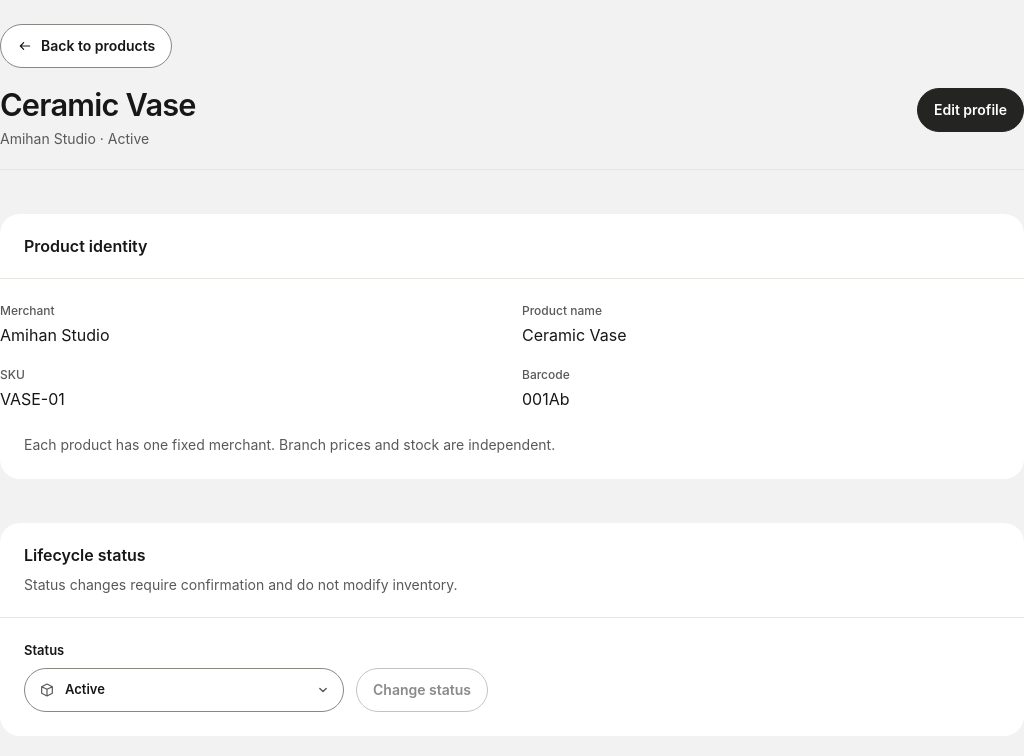
Test: ProductProfile workflows › edits identity in the modal without a merchant selector
Click the button "Edit profile" at (970, 110), box [917,88,1023,132]
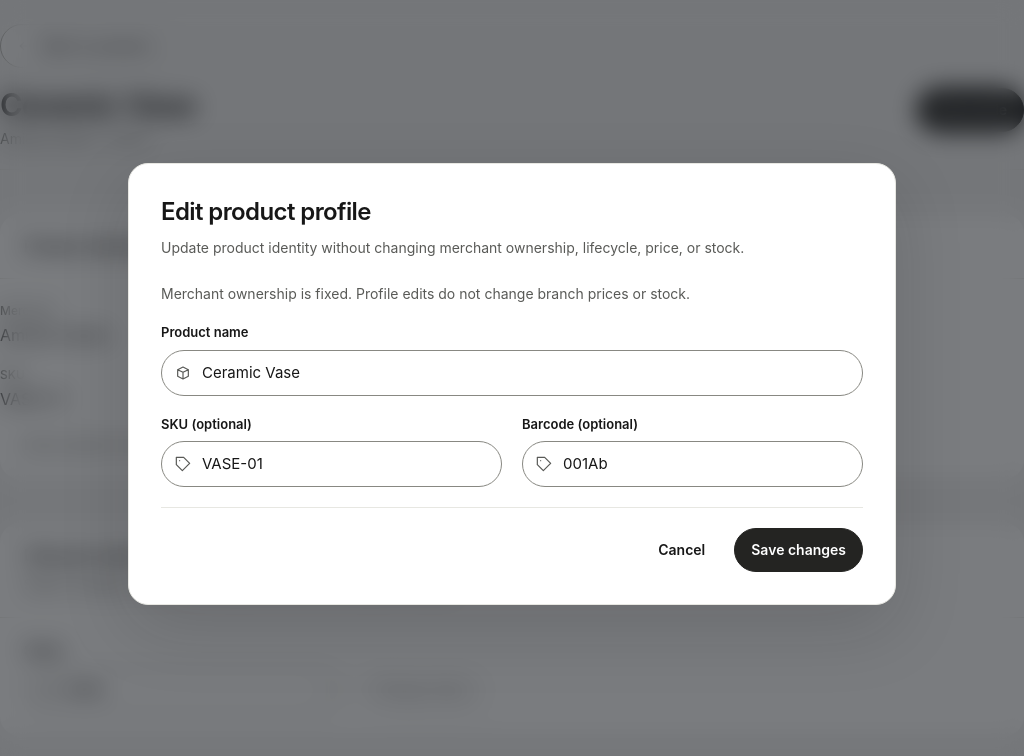
Result: the dialog "Edit product profile" is shown at [128,163,896,605]
Replace the text in the field labelled "Product name" with "Updated vase" at (512, 372), box [161,350,863,396]
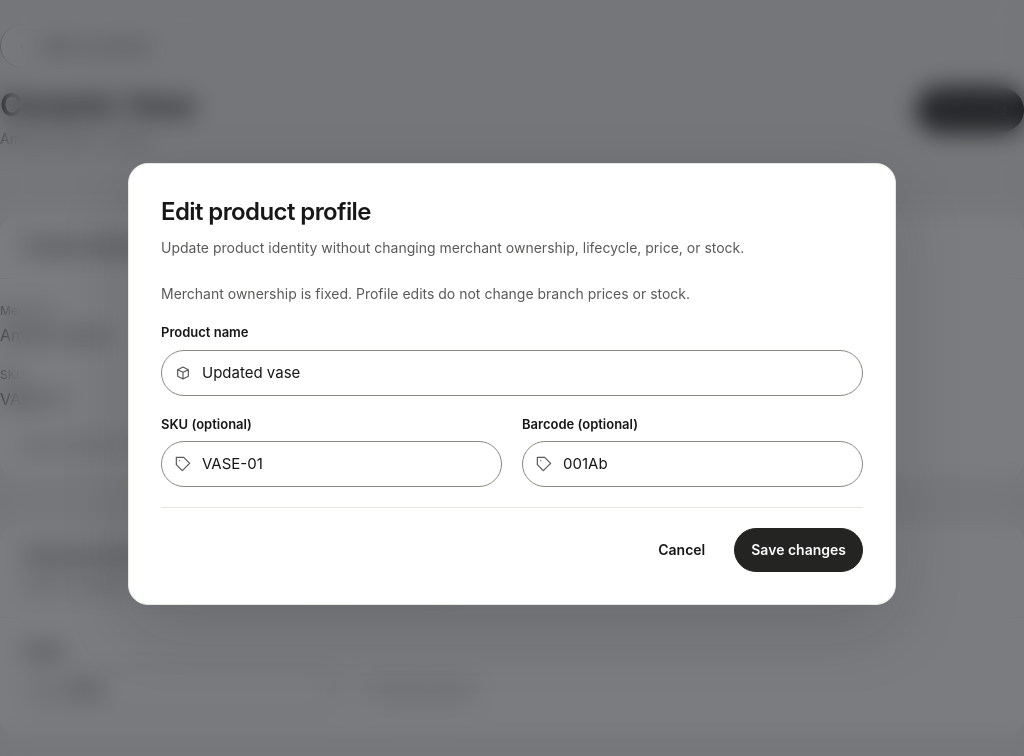
Click the button "Save changes" at (799, 550), box [734,528,863,572]
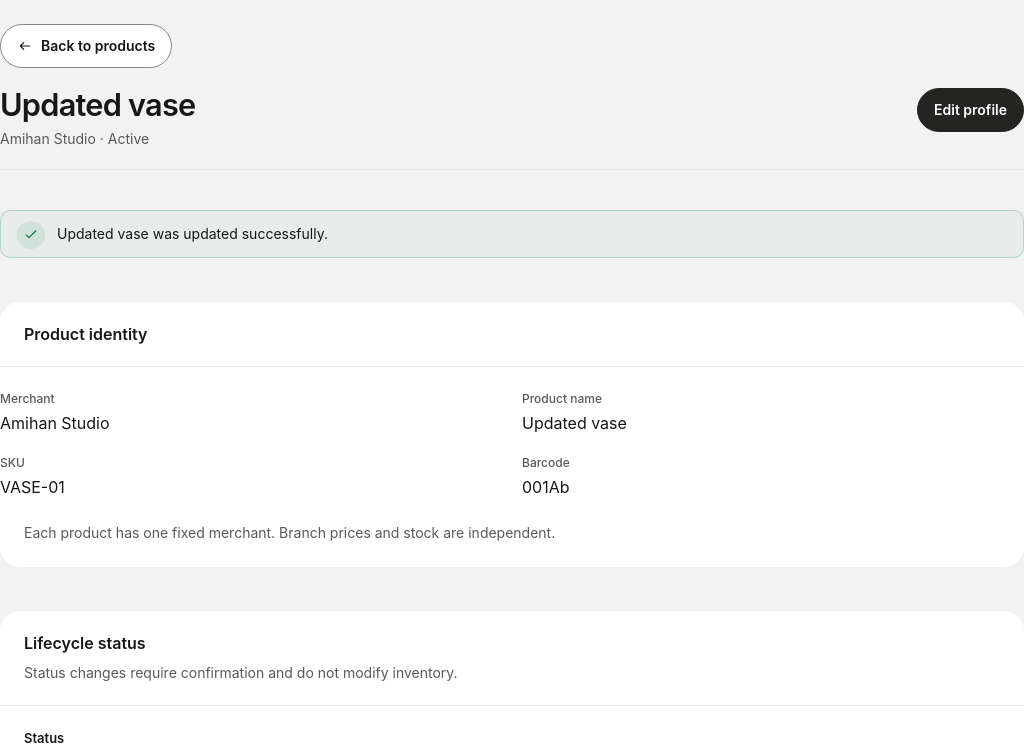
Result: the text "Updated vase was updated successfully." is shown at [57,222,328,246]
